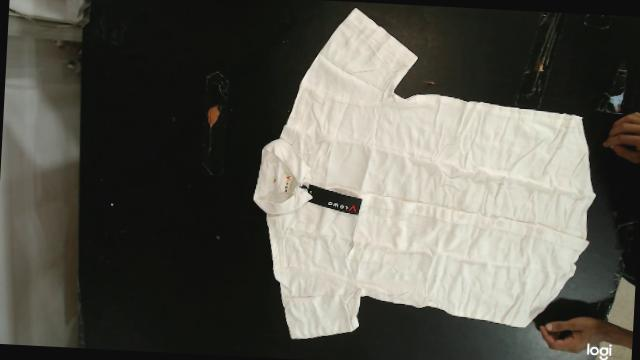new-garment: (253, 8, 595, 338)
